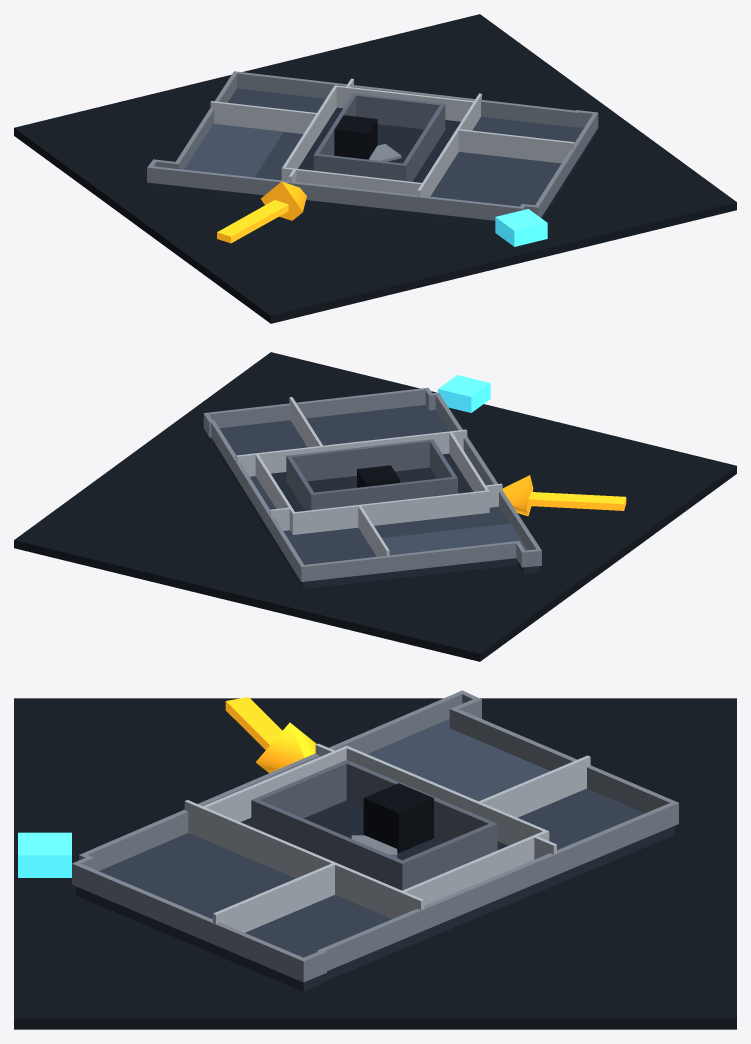
3 renders of one model, top to bottom at view 1: azimuth 30°, elevation 25°; view 2: azimuth 150°, elevation 25°; view 3: azimuth 270°, elevation 25°, orthographic. The views are drawn at different scales.
Visible parts, largest first — view 1: FireSight 1018 Mission St floor 4; view 2: FireSight 1018 Mission St floor 4; view 3: FireSight 1018 Mission St floor 4.
Boxes of the visible parts, bbox=[...] form: FireSight 1018 Mission St floor 4: bbox=[14, 14, 736, 323]; FireSight 1018 Mission St floor 4: bbox=[14, 352, 736, 661]; FireSight 1018 Mission St floor 4: bbox=[14, 690, 736, 1029].
Size of the model in its own units: 0.3649 by 0.037 by 0.3485.
